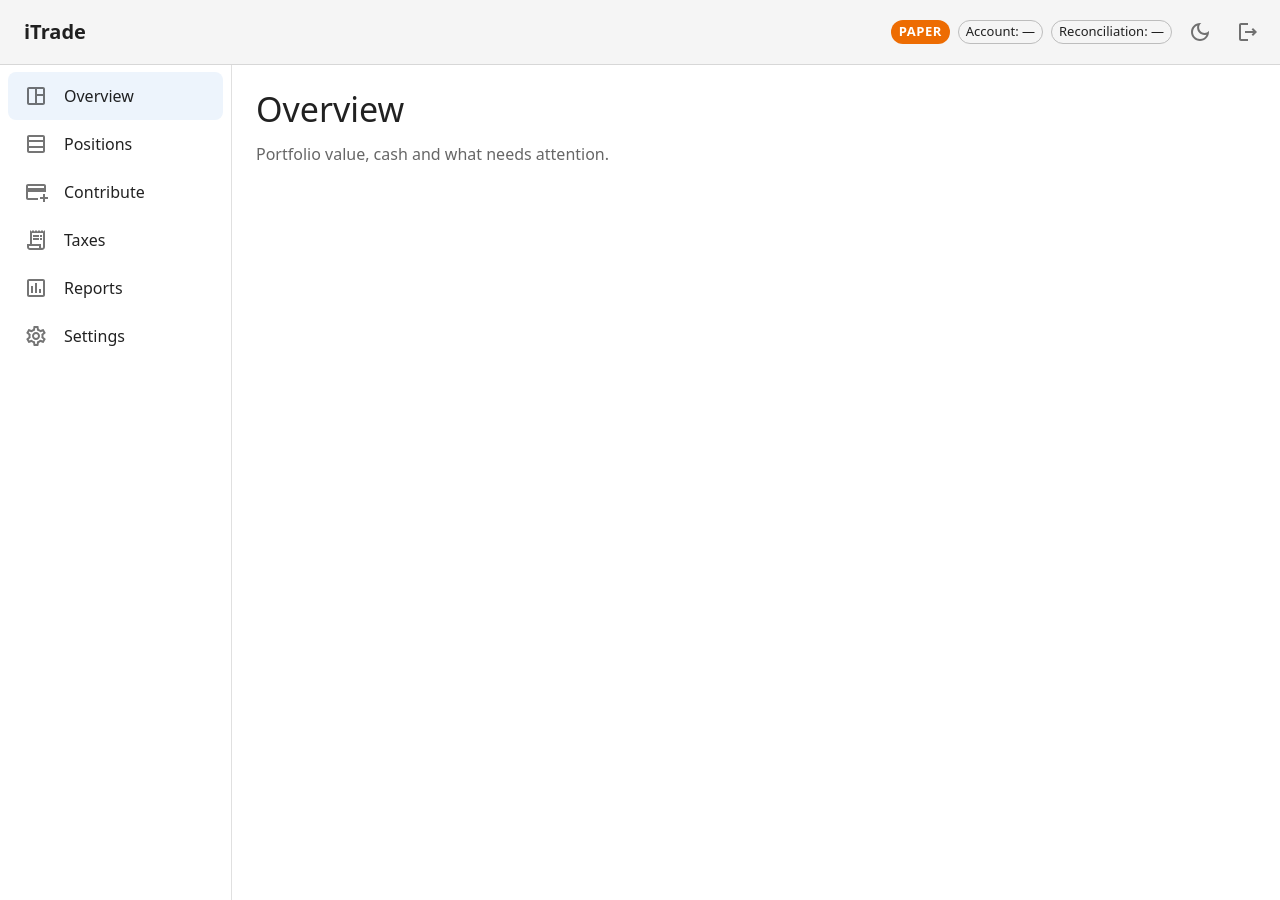
Test: signed in › the menu moves between screens without reloading the page
Expected: the heading "Overview" is shown, [256, 86, 404, 132]
Click the link "Taxes".
click(65, 240)  # box [24, 228, 105, 252]
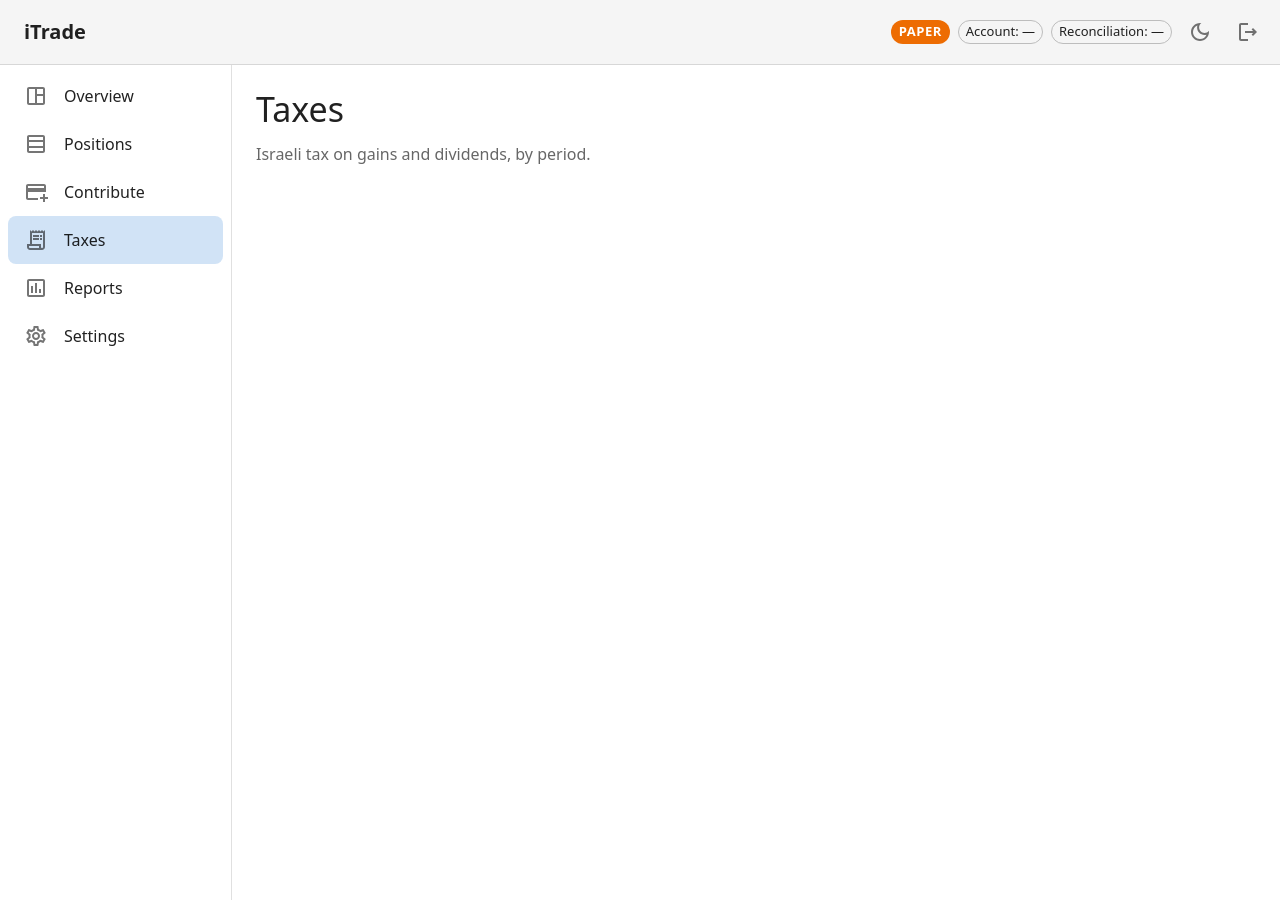
Expected: the heading "Taxes" is shown, [256, 86, 344, 132]
